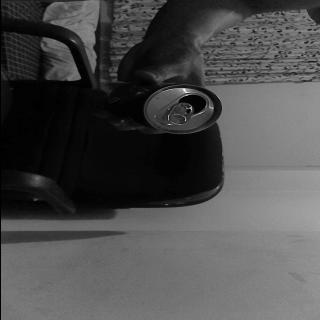alumunium_can: (84, 80, 222, 134)
